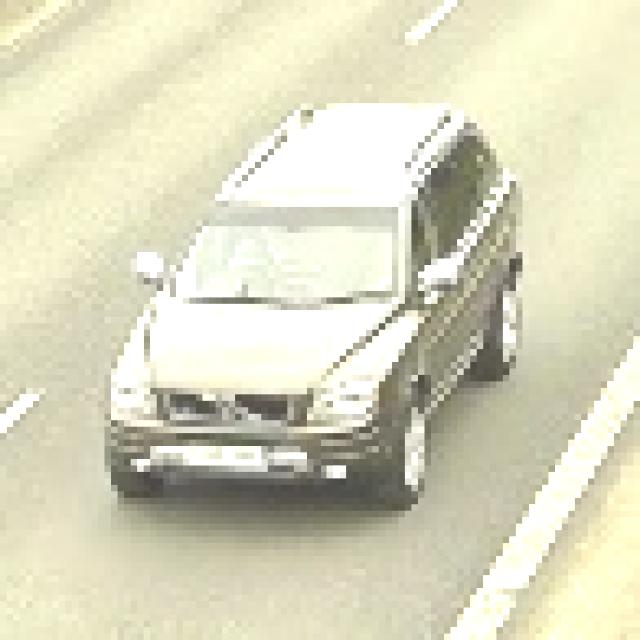SUV: (129, 115, 487, 488)
